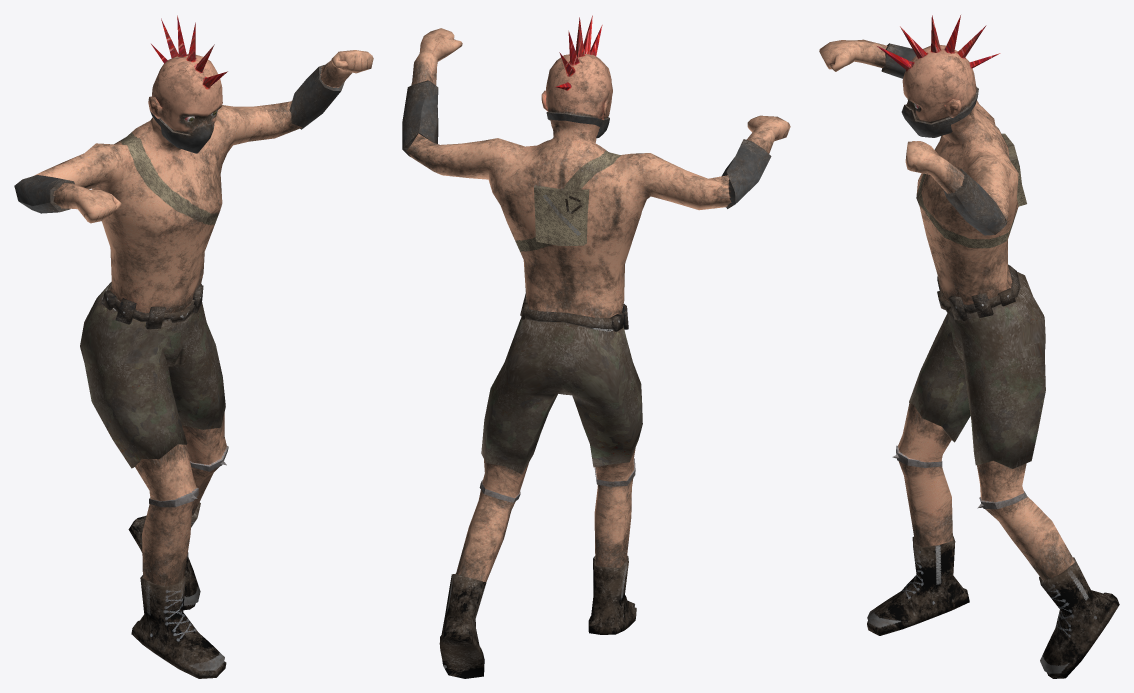
Rendered from Anim_ganar_1_npc2.0035.obj.
The picture shows the model from 3 angles, left to right: view 1: azimuth 30°, elevation 25°; view 2: azimuth 150°, elevation 25°; view 3: azimuth 270°, elevation 25°; orthographic projection. The views are drawn at different scales.
Visible parts, largest first — view 1: polySurface1; view 2: polySurface1; view 3: polySurface1.
Part boxes in pixels (left/top/right/bottom): polySurface1: left=14, top=15, right=373, bottom=678; polySurface1: left=402, top=15, right=790, bottom=678; polySurface1: left=819, top=15, right=1119, bottom=678.
Size of the model in its own units: 5.68 by 10.32 by 4.4.
2 materials, 2 textured.
